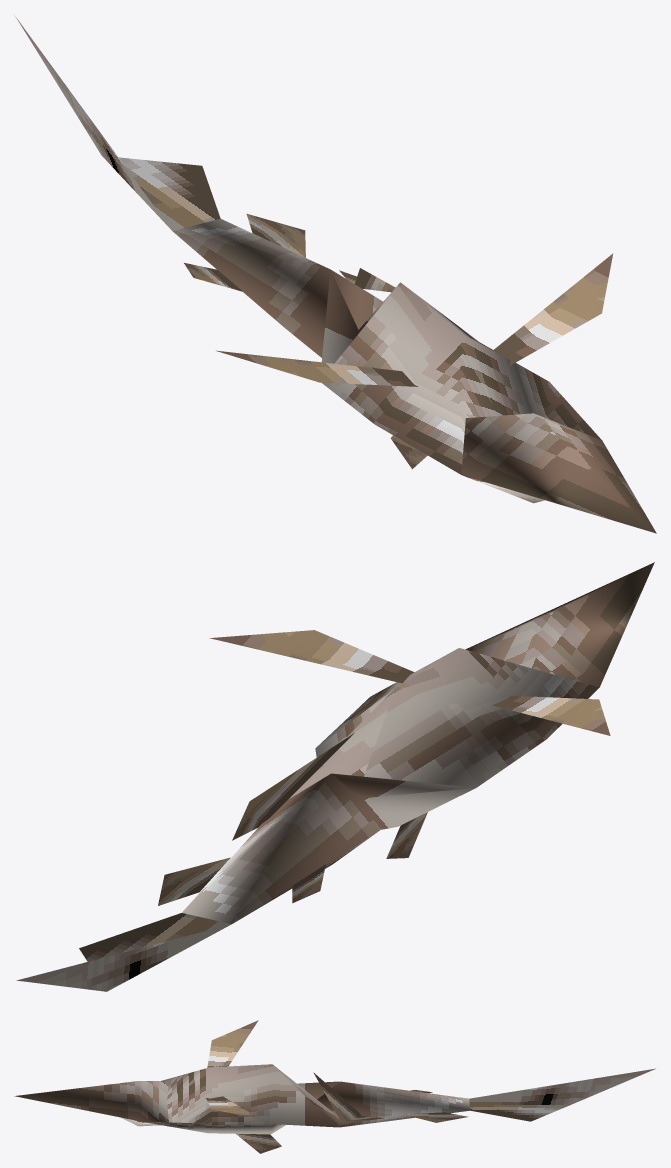
3 views of the same model, one above another, from view 1: azimuth 30°, elevation 25°; view 2: azimuth 150°, elevation 25°; view 3: azimuth 270°, elevation 25° (orthographic). The views are drawn at different scales.
Parts seen in each view (by area): view 1: 4820fish30; view 2: 4820fish30; view 3: 4820fish30.
Part boxes in pixels (x1,y1,x2,y2): 4820fish30: [15, 16, 656, 533]; 4820fish30: [16, 562, 654, 991]; 4820fish30: [14, 1020, 655, 1153].
Bounding box in the file's own units: 0.426 × 0.1819 × 1.18.
Materials: 1 (1 with a texture image).
